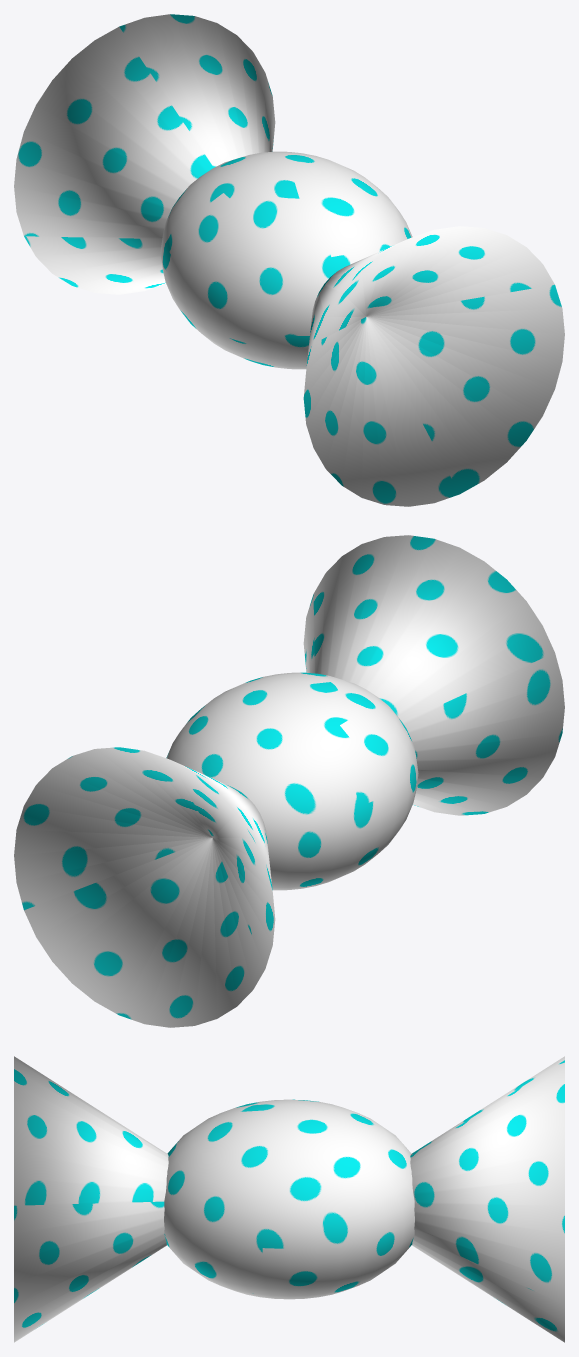
The model's file is candy.fbx.
3 views of the same model, one above another, from view 1: azimuth 30°, elevation 25°; view 2: azimuth 150°, elevation 25°; view 3: azimuth 270°, elevation 25° (orthographic). The views are drawn at different scales.
Visible parts, largest first — view 1: Candy; view 2: Candy; view 3: Candy.
Boxes of the visible parts, box(x1,y1,x2,y2) form: Candy: box(14, 14, 564, 506); Candy: box(14, 535, 564, 1027); Candy: box(14, 1056, 564, 1342).
Size of the model in its own units: 169 by 169 by 324.
